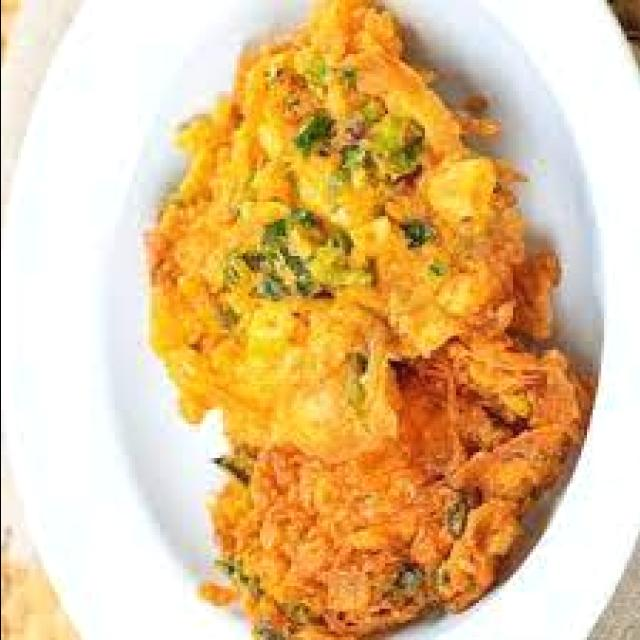telur dadar: (145, 6, 592, 609)
